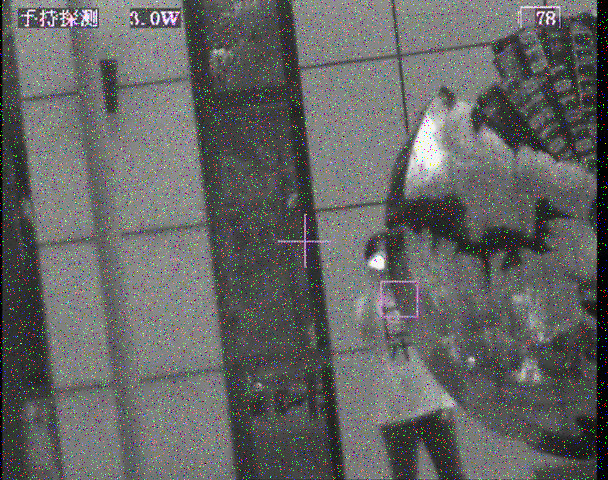my: (367, 253, 386, 271)
